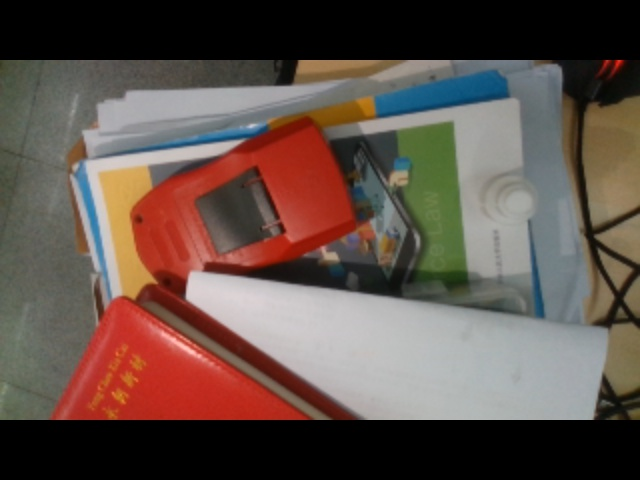Multimeter: (128, 114, 357, 291)
Screw holes: (132, 214, 145, 227), (161, 278, 173, 287)
